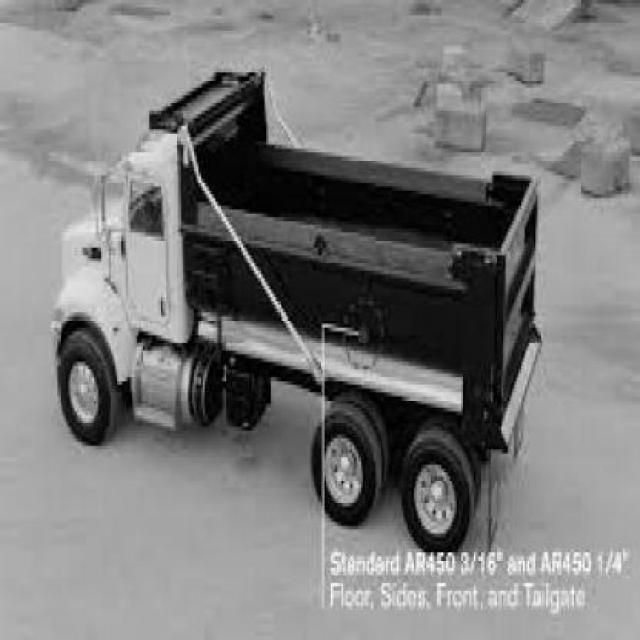Truck- Multi-Axle: (50, 71, 543, 559)
